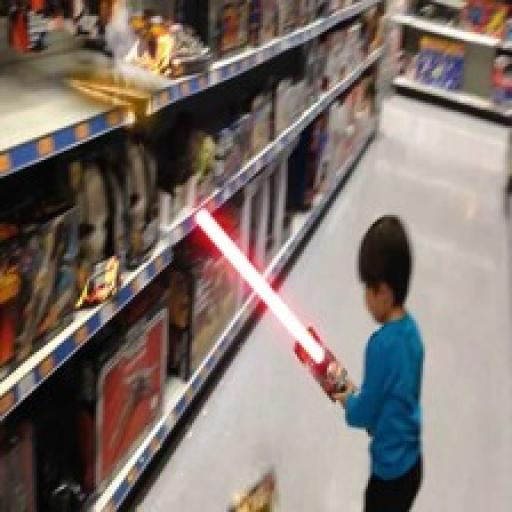lightsaber: (188, 208, 350, 394)
